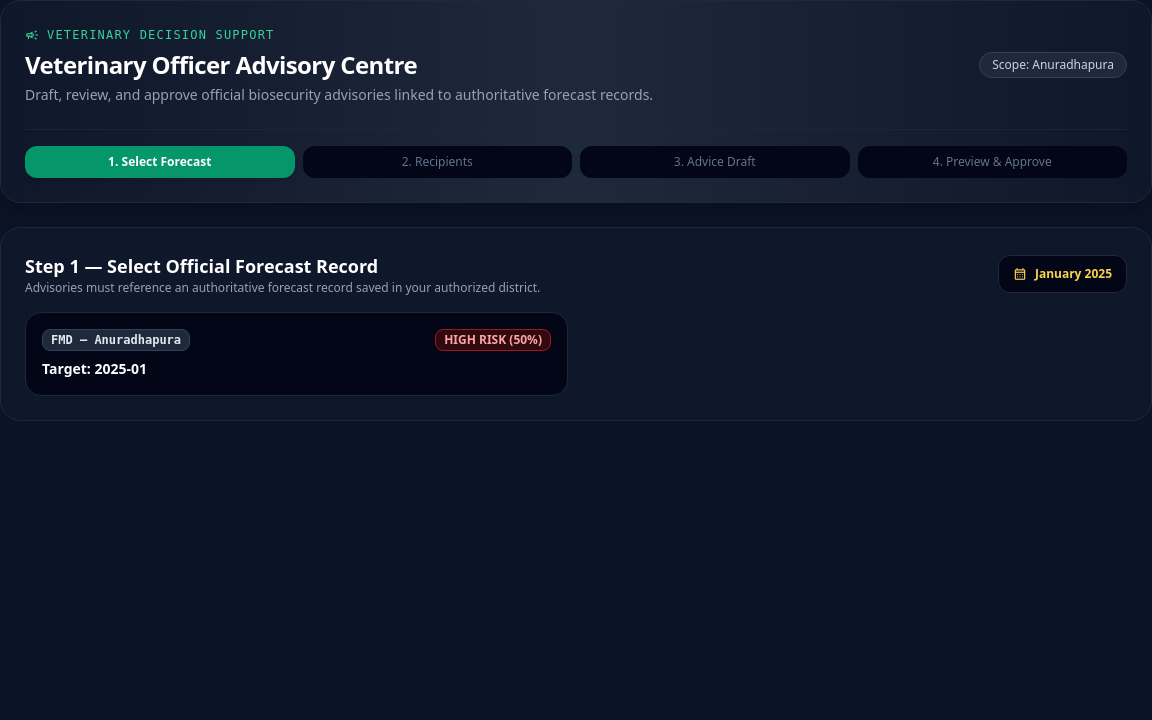
VeterinaryAdvisoryCentre Component › Review steps (no error screen for the wrong order) › keeps Approve disabled with a hint while the advisory is a draft, and shows where it is in the review
Click the text "FMD — Anuradhapura": (116, 340) left=42, top=329, right=190, bottom=351
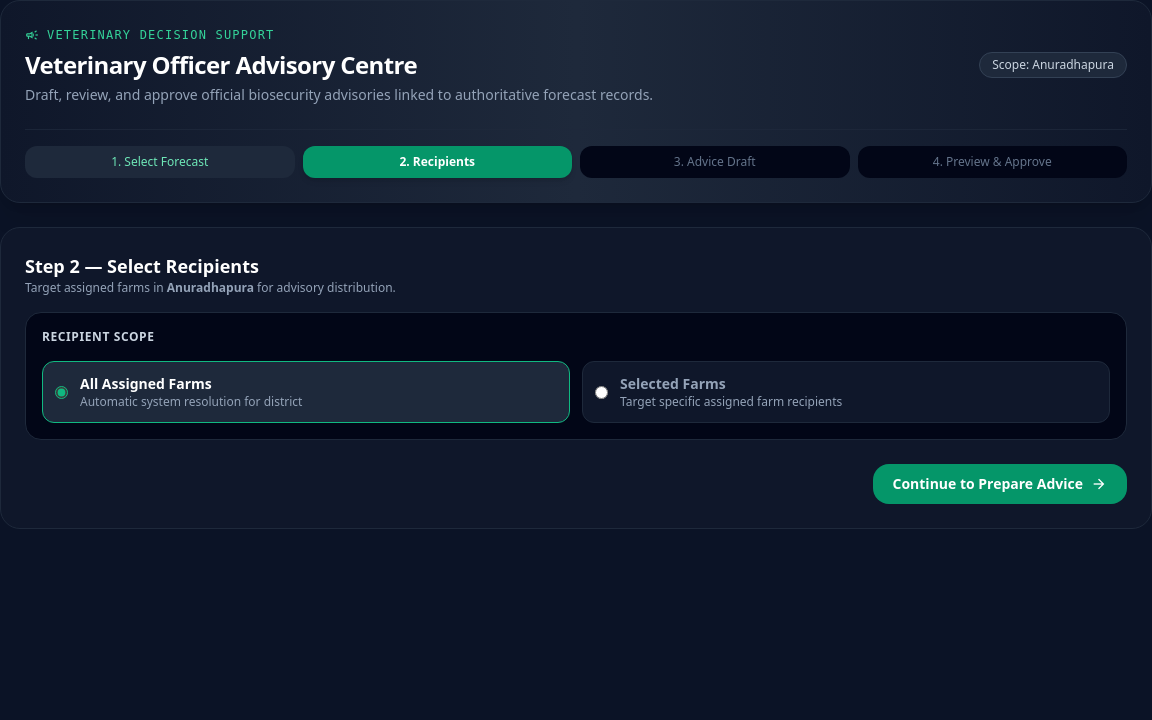
Click the button "Continue to Prepare Advice": (1000, 484) left=872, top=464, right=1127, bottom=504
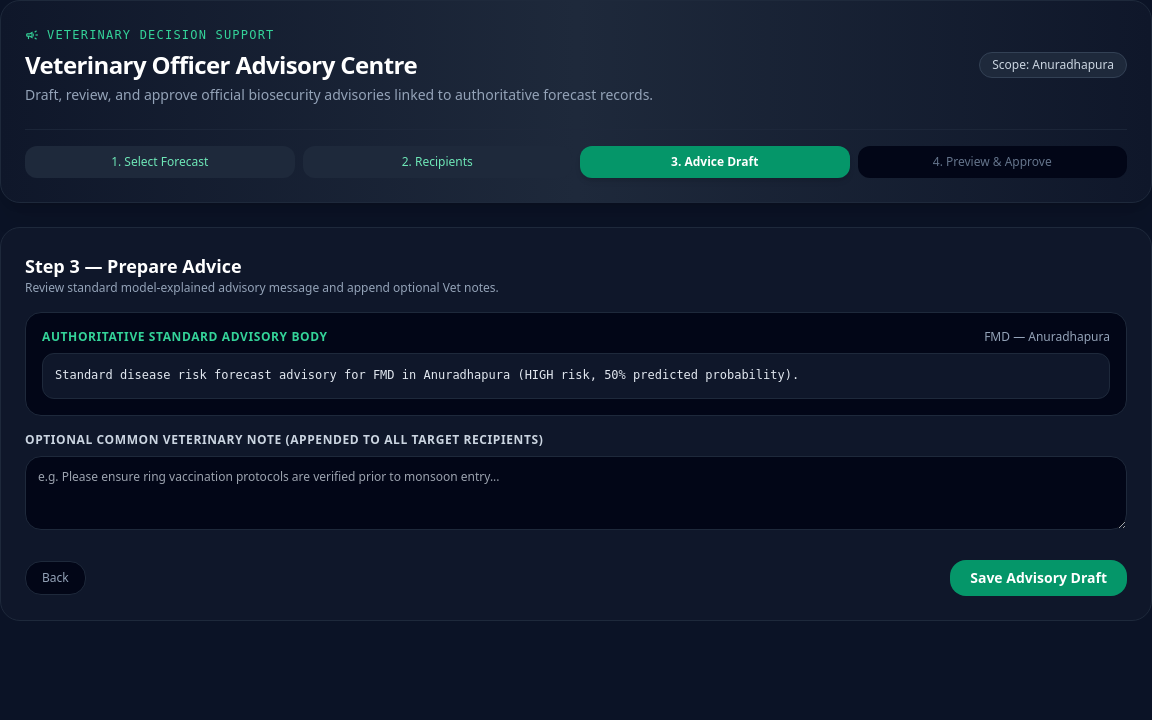
Click the button "Save Advisory Draft": (1039, 578) left=950, top=560, right=1127, bottom=596
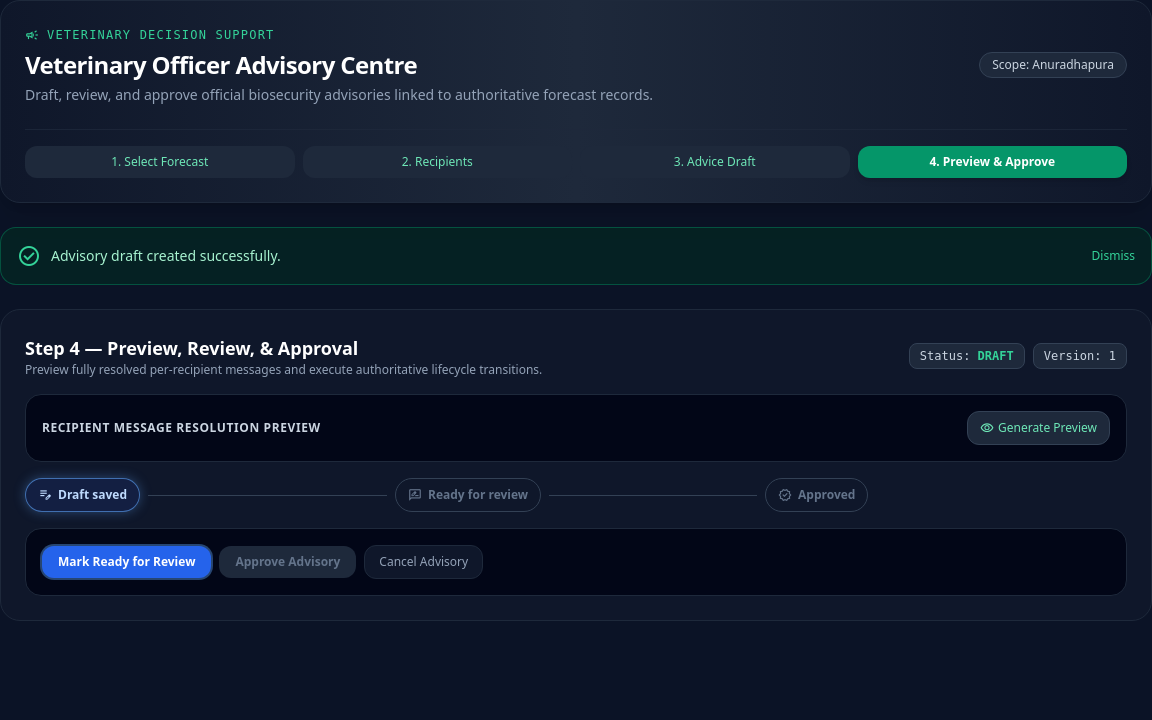
Now the button "Approve Advisory" is disabled, box left=219, top=546, right=356, bottom=578
Now the list with test id "advisory-progress" shows "Draft saved", box left=58, top=486, right=127, bottom=503
Now the button "Mark Ready for Review" is enabled, box left=42, top=546, right=211, bottom=578
